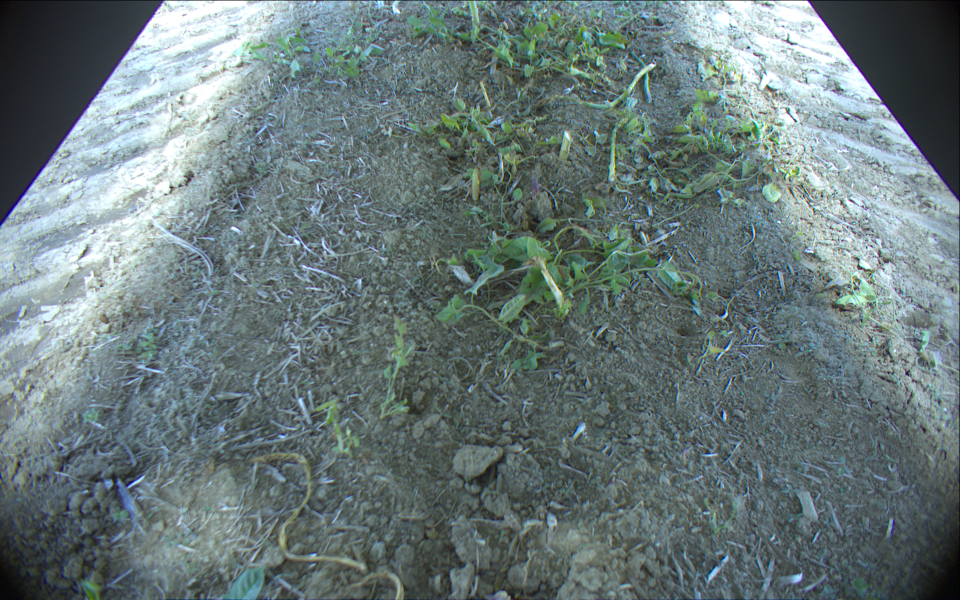aspa: (252, 455, 369, 576), (554, 62, 655, 108), (605, 118, 628, 182), (629, 50, 652, 101), (468, 1, 479, 35), (560, 129, 571, 159)
